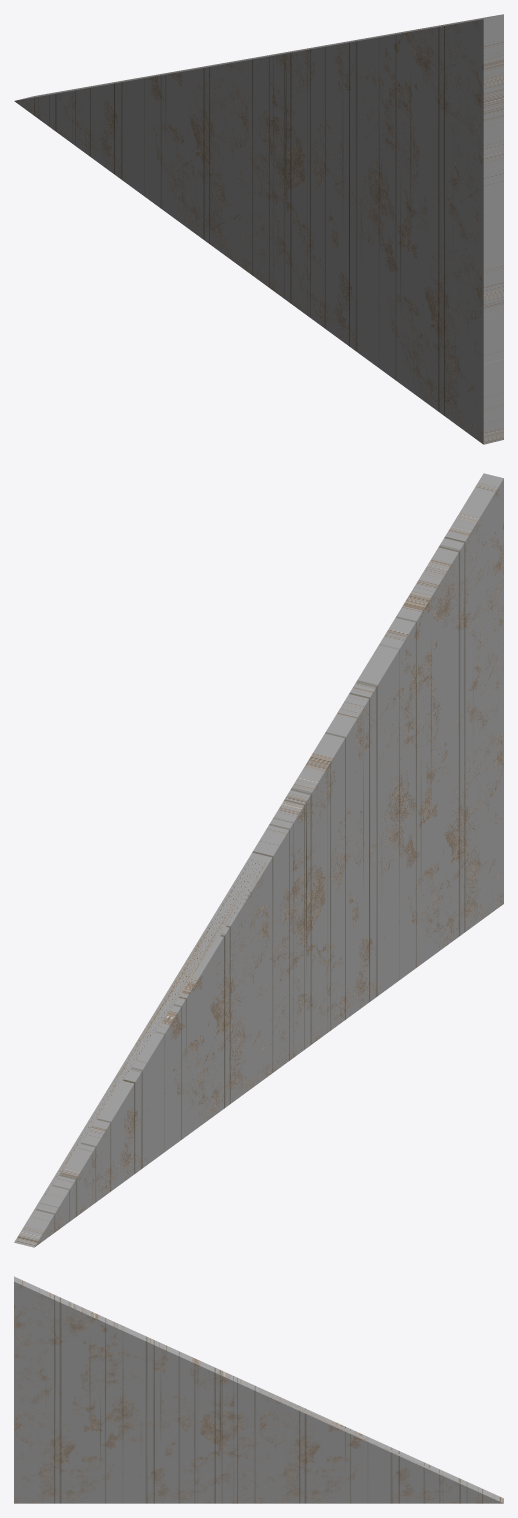
The model's file is Warehouse_RoofBasel.fbx.
3 views of the same model, one above another, from view 1: azimuth 30°, elevation 25°; view 2: azimuth 150°, elevation 25°; view 3: azimuth 270°, elevation 25° (orthographic). The views are drawn at different scales.
Parts seen in each view (by area): view 1: Cube.121; view 2: Cube.121; view 3: Cube.121.
Part boxes in pixels (x1,y1,x2,y2): Cube.121: (14, 14, 503, 444); Cube.121: (14, 473, 503, 1247); Cube.121: (14, 1276, 503, 1503).
Bounding box in the file's own units: 10 × 200 × 400.
Materials: 1 (1 with a texture image).
